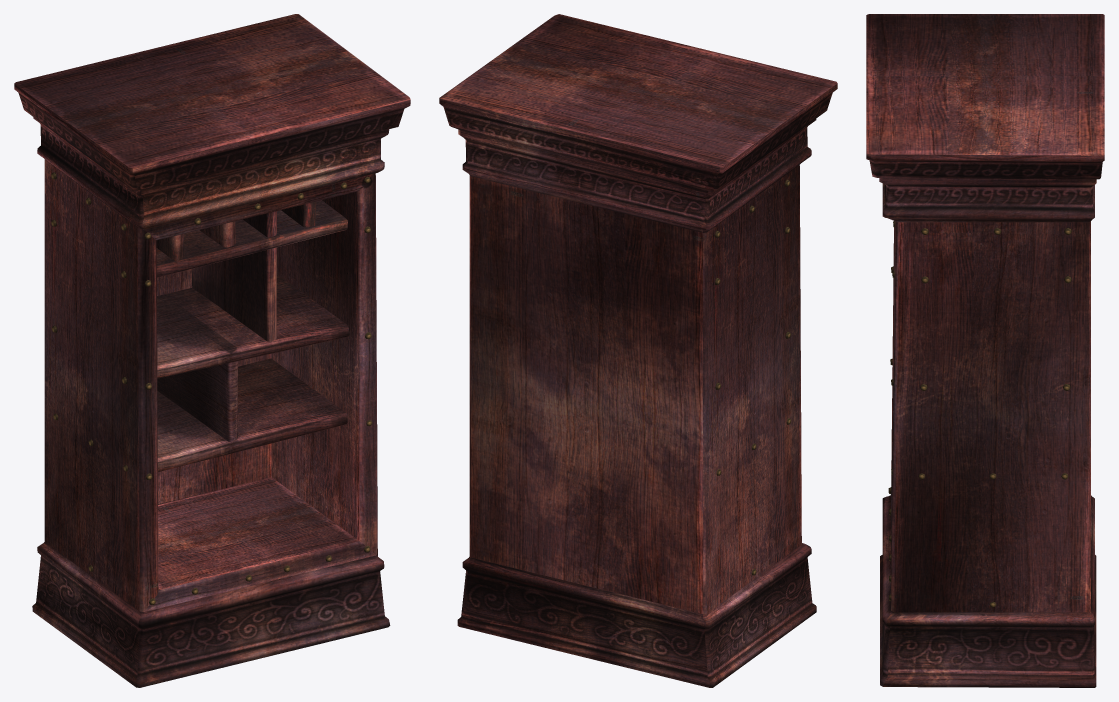
Rendered from Bookshelves.obj.
The picture shows the model from 3 angles, left to right: view 1: azimuth 30°, elevation 25°; view 2: azimuth 150°, elevation 25°; view 3: azimuth 270°, elevation 25°; orthographic projection. The views are drawn at different scales.
Parts seen in each view (by area): view 1: Bookshielves; view 2: Bookshielves; view 3: Bookshielves.
Boxes of the visible parts, x1,y1,x2,y2 form: Bookshielves: [14, 14, 410, 687]; Bookshielves: [439, 14, 837, 687]; Bookshielves: [866, 14, 1104, 687].
Size of the model in its own units: 124 by 219 by 87.98.
